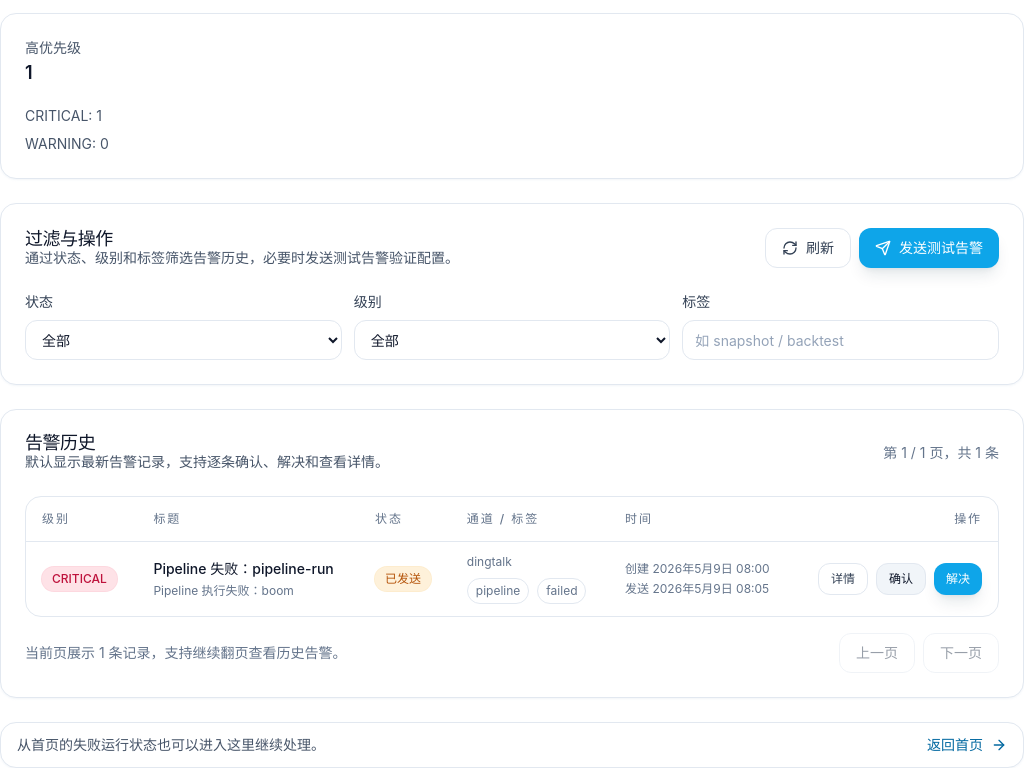
AlertsPage › can acknowledge, resolve and open detail dialog
(page scrolled)
expect the text "Pipeline 失败：pipeline-run" is shown: met, box [153, 558, 343, 578]
Click the button "确认" at (901, 578), box [876, 562, 926, 594]
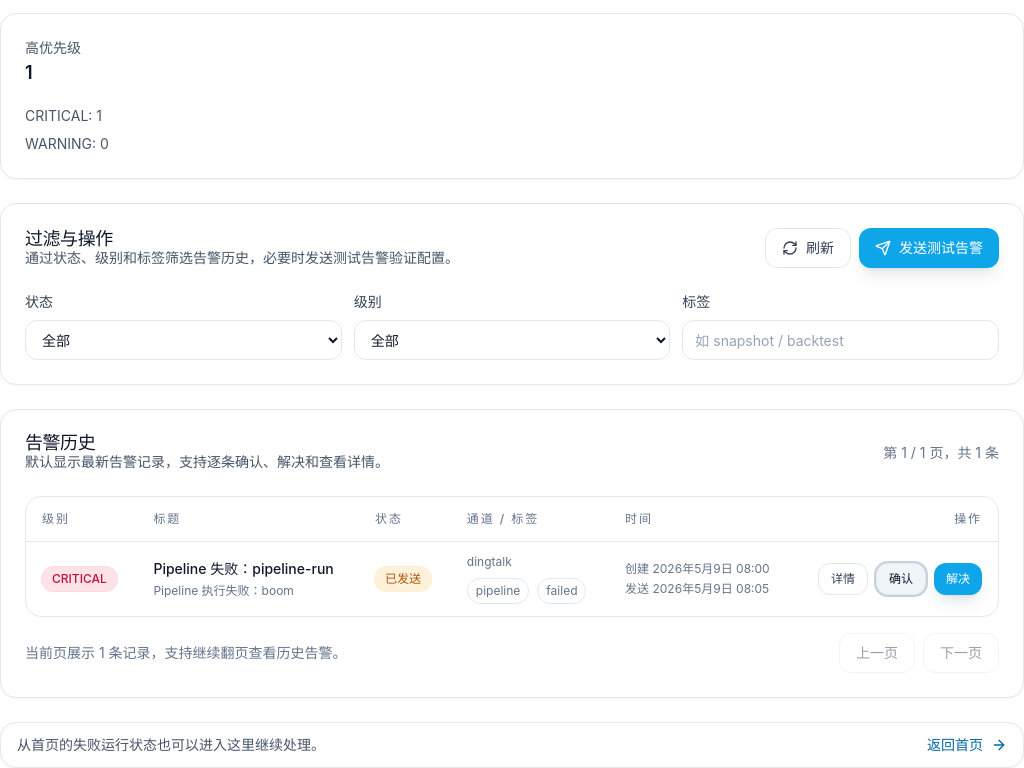
Click the button "解决" at (958, 578), box [934, 562, 982, 594]
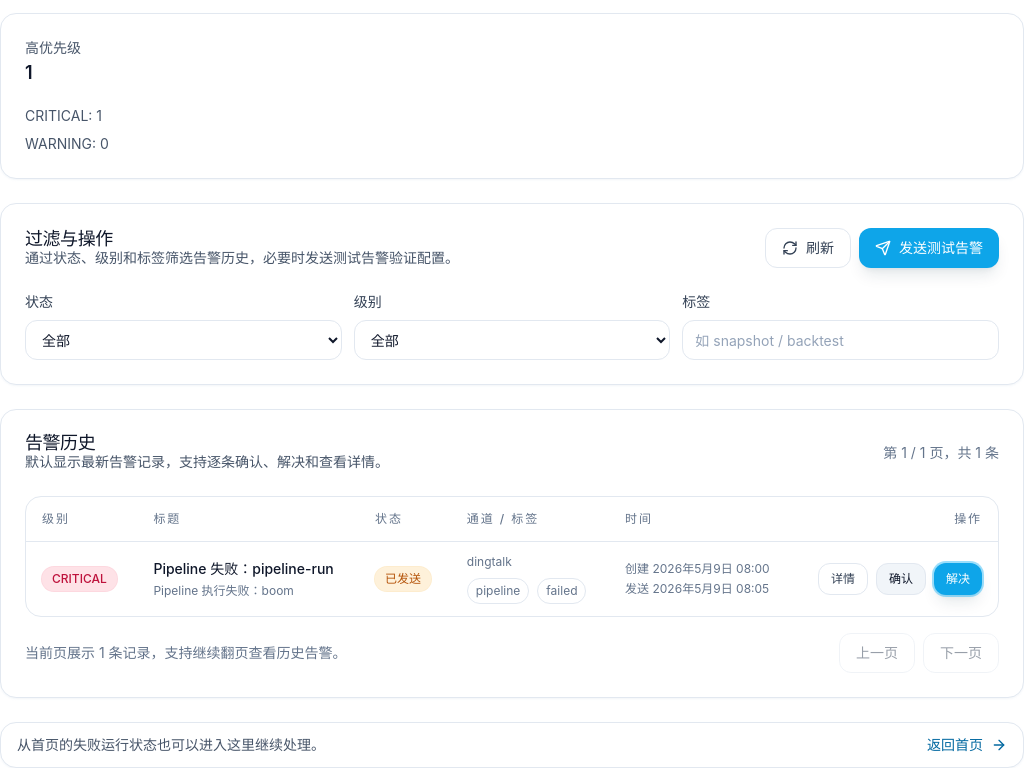
Click the button "详情" at (843, 578), box [818, 562, 868, 594]
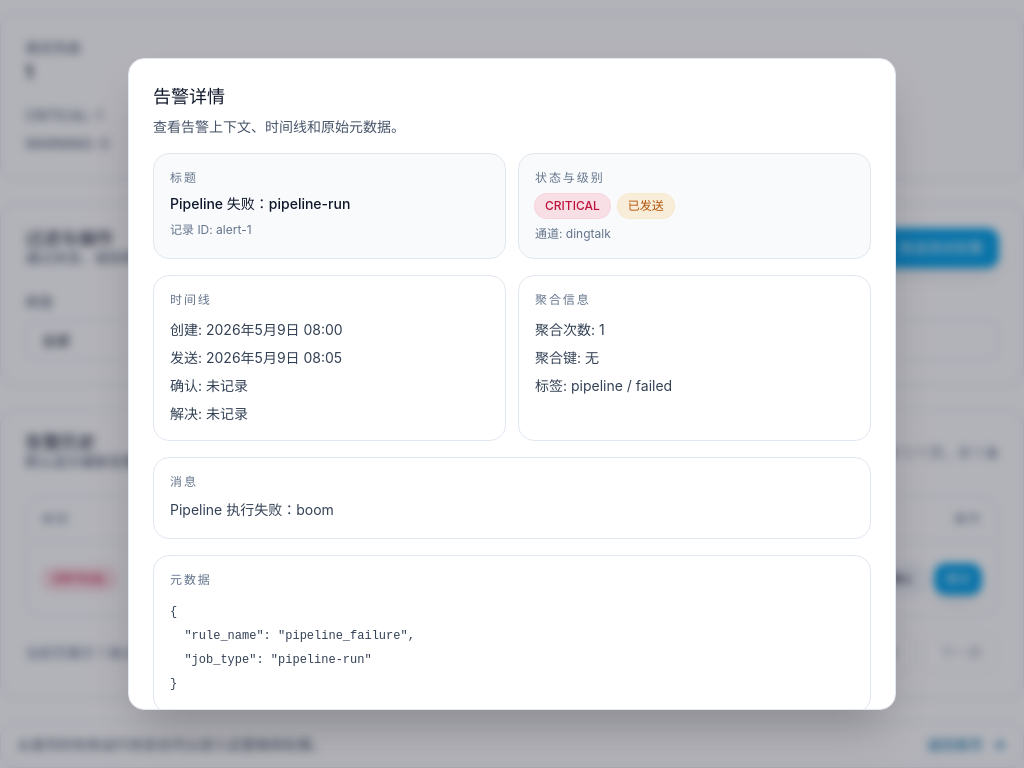
expect the text "Pipeline 失败：pipeline-run" is shown 2 times: met, box [153, 558, 343, 578]; [170, 195, 350, 212]
expect the heading "告警详情" is shown: met, box [153, 86, 225, 107]
